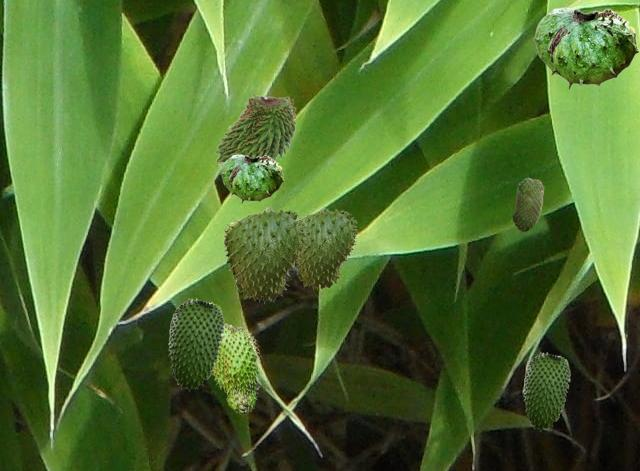guyabano: (533, 7, 638, 89), (223, 207, 307, 303), (214, 92, 296, 167), (295, 208, 358, 290), (168, 298, 223, 390), (212, 323, 261, 415), (523, 352, 569, 430), (220, 154, 283, 203), (512, 177, 543, 231)
